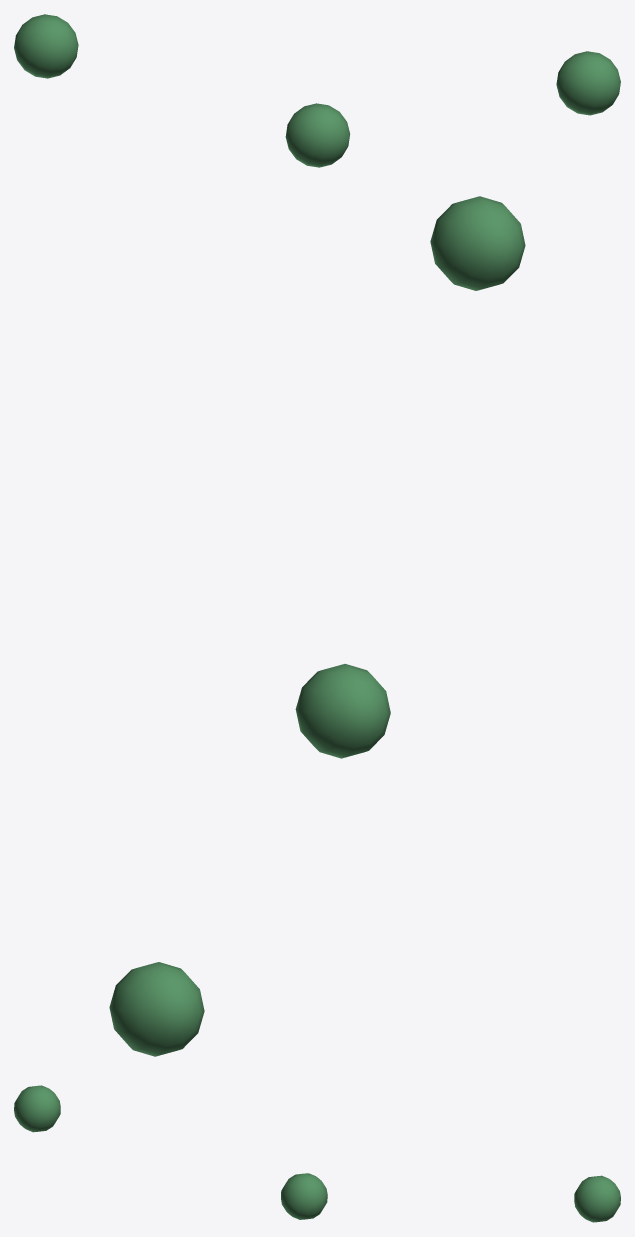
3 renders of one model, top to bottom at view 1: azimuth 30°, elevation 25°; view 2: azimuth 150°, elevation 25°; view 3: azimuth 270°, elevation 25°, orthographic. The views are drawn at different scales.
Parts seen in each view (by area): view 1: 左结肠淋巴结; view 2: 左结肠淋巴结; view 3: 左结肠淋巴结.
Part boxes in pixels (x1=…): 左结肠淋巴结: x1=14, y1=14, x2=620, y2=167; 左结肠淋巴结: x1=109, y1=196, x2=525, y2=1056; 左结肠淋巴结: x1=14, y1=1085, x2=620, y2=1222.
Bounding box in the file's own units: 0.0149 × 0.017 × 0.0488.
